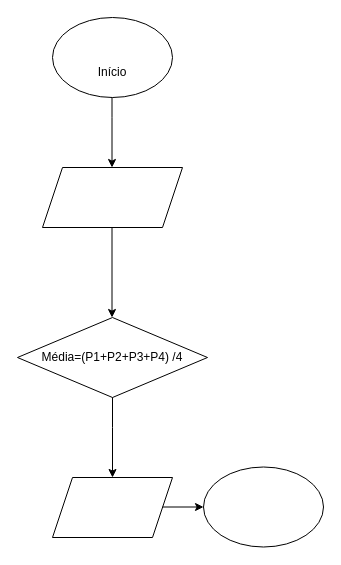
Some shapes in this 341 by 565 pixel diagram are drawn without their labels. The centre of each missing label's shape, as x and y in pixels:
"fim" goes at (x=263, y=506).
"Ler P1, P2, P3, P4" goes at (x=112, y=197).
